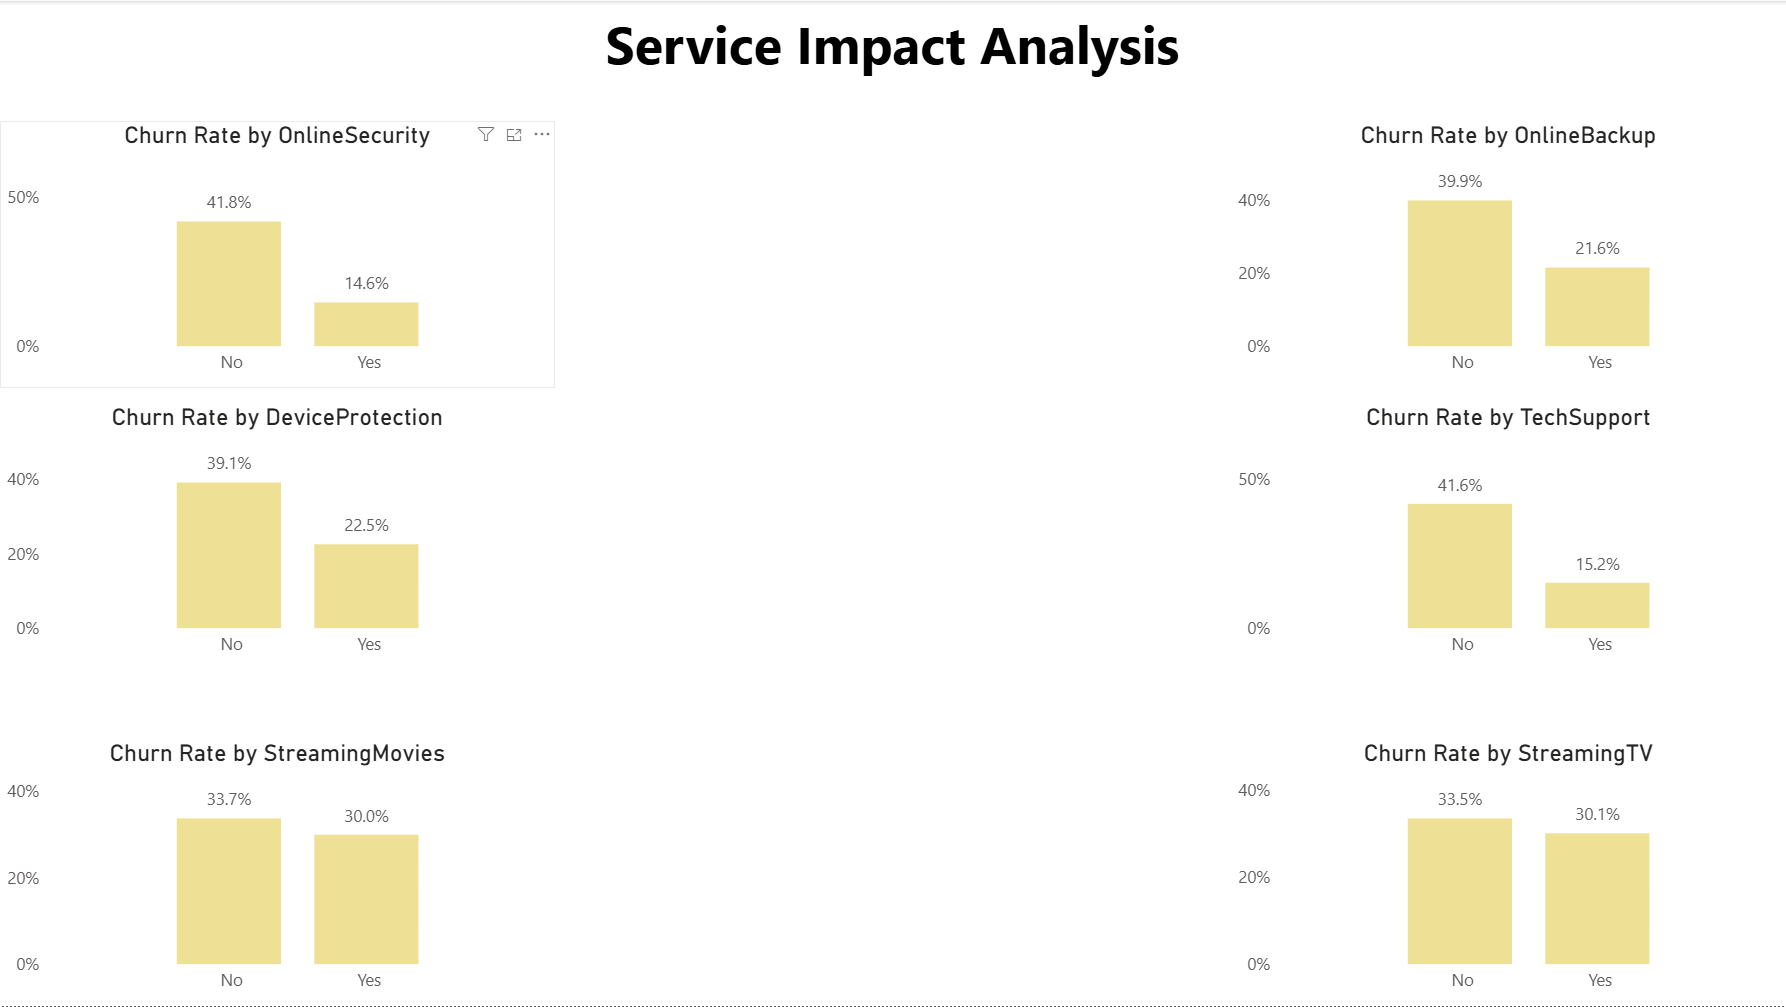

The page's visual inventory and layout, read from the dashboard file:
{"tool":"powerbi","page":{"name":"Service Impact Analysis","canvas":[1280,720],"ordinal":2},"visuals":[{"type":"textbox","box":[394.2,0,490.9,76.7],"z":0},{"type":"columnChart","title":"Churn Rate by OnlineSecurity","fields":{"Y":["churn_db customer_churn.Churn Rate"],"Category":["churn_db customer_churn.OnlineSecurity"]},"box":[0,86,397.8,191.4],"z":1},{"type":"columnChart","title":"Churn Rate by StreamingTV","fields":{"Y":["churn_db customer_churn.Churn Rate"],"Category":["churn_db customer_churn.StreamingTV"]},"box":[882.2,528.9,397.8,191.4],"z":2},{"type":"columnChart","title":"Churn Rate by TechSupport","fields":{"Y":["churn_db customer_churn.Churn Rate"],"Category":["churn_db customer_churn.TechSupport"]},"box":[882.2,288.1,397.8,191.4],"z":3},{"type":"columnChart","title":"Churn Rate by OnlineBackup","fields":{"Y":["churn_db customer_churn.Churn Rate"],"Category":["churn_db customer_churn.OnlineBackup"]},"box":[882.2,86,397.8,191.4],"z":4},{"type":"columnChart","title":"Churn Rate by DeviceProtection","fields":{"Y":["churn_db customer_churn.Churn Rate"],"Category":["churn_db customer_churn.DeviceProtection"]},"box":[0,288.1,397.8,191.4],"z":5},{"type":"columnChart","title":"Churn Rate by StreamingMovies","fields":{"Y":["churn_db customer_churn.Churn Rate"],"Category":["churn_db customer_churn.StreamingMovies"]},"box":[0,528.9,397.8,191.4],"z":6}]}

Visuals, with their boxes in screenshot pixels (x1, y1, x2, y2), scaled from the page's 1280x720 canvas onto the 1786x1007 screenshot:
textbox: pyautogui.locateOnScreen(550, 0, 1235, 107)
"Churn Rate by OnlineSecurity" columnChart: pyautogui.locateOnScreen(0, 120, 555, 388)
"Churn Rate by StreamingTV" columnChart: pyautogui.locateOnScreen(1231, 740, 1785, 1006)
"Churn Rate by TechSupport" columnChart: pyautogui.locateOnScreen(1231, 403, 1785, 671)
"Churn Rate by OnlineBackup" columnChart: pyautogui.locateOnScreen(1231, 120, 1785, 388)
"Churn Rate by DeviceProtection" columnChart: pyautogui.locateOnScreen(0, 403, 555, 671)
"Churn Rate by StreamingMovies" columnChart: pyautogui.locateOnScreen(0, 740, 555, 1006)
